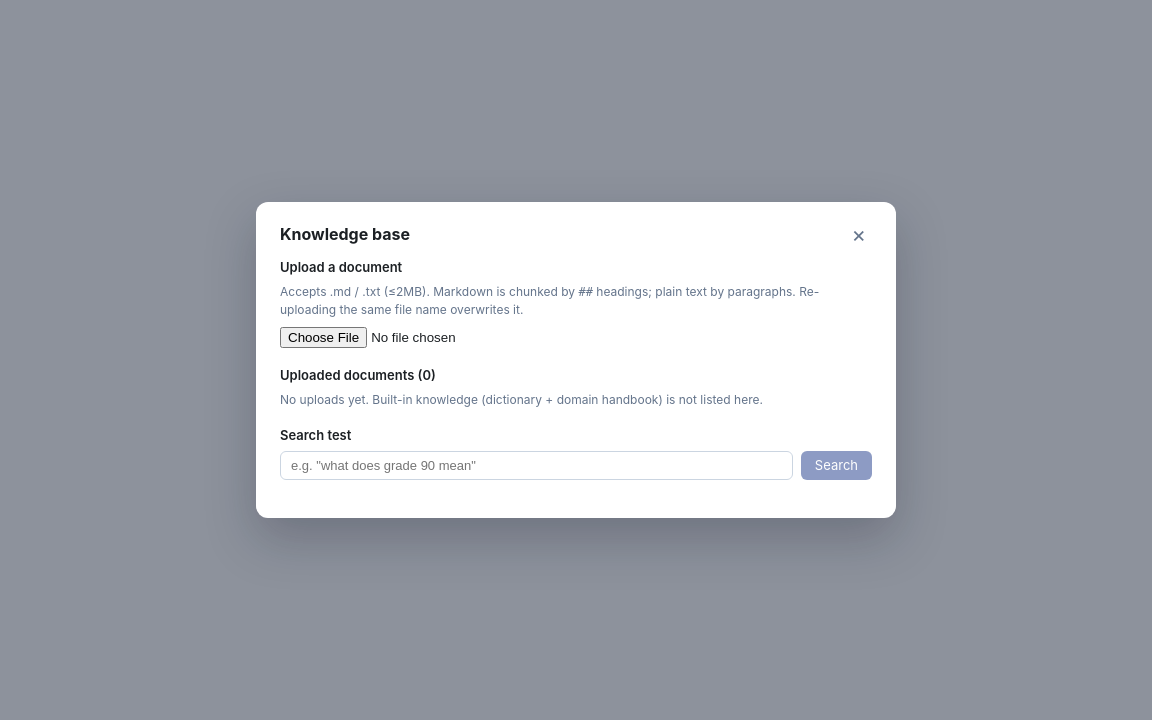
KnowledgePanel › runs a search on Enter and renders scored hits
Type "grade 90" into the field with placeholder "e.g. \"what does grade 90 mean\"" at (536, 465), box [280, 451, 793, 480]
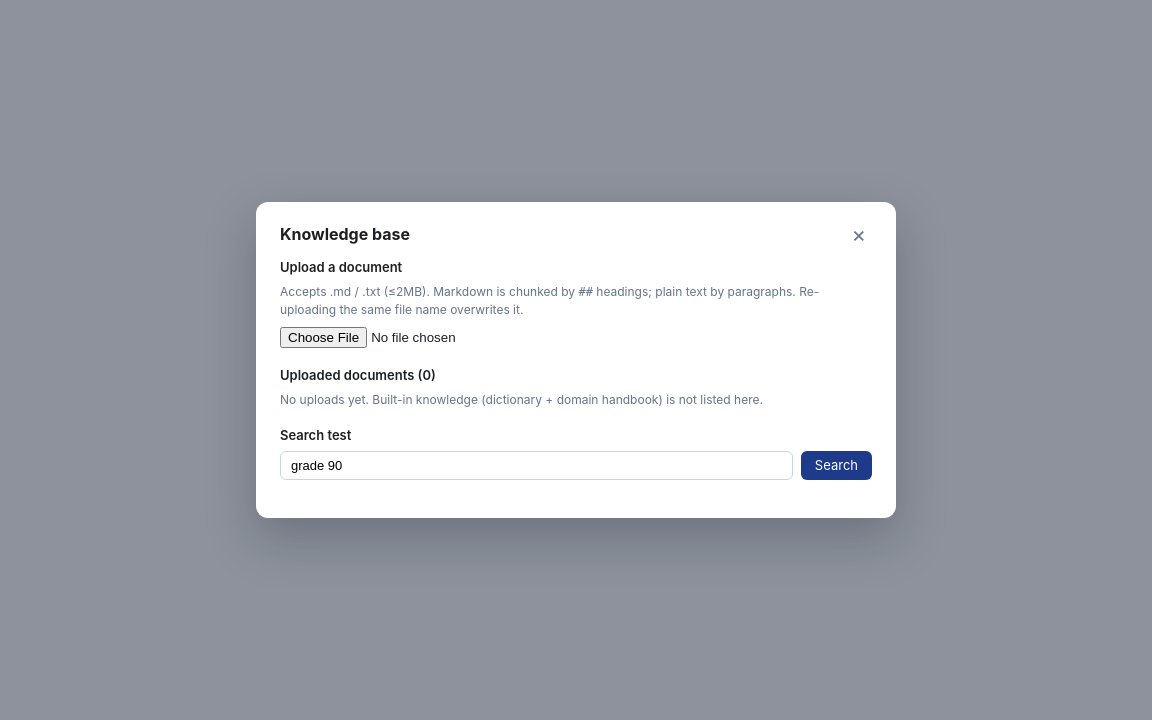
Press Enter in the field with placeholder "e.g. \"what does grade 90 mean\"", box [280, 451, 793, 480]
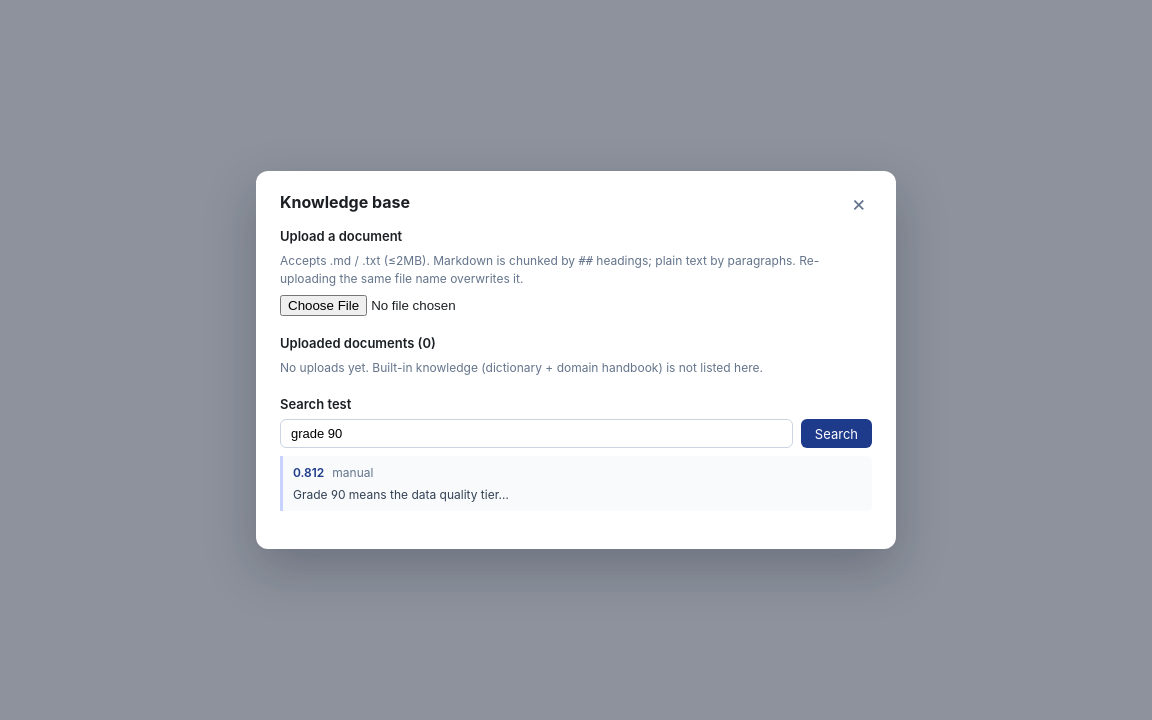
Expected: the text "0.812" is shown, [293, 466, 324, 480]
Expected: the text "manual" is shown, [332, 466, 373, 480]
